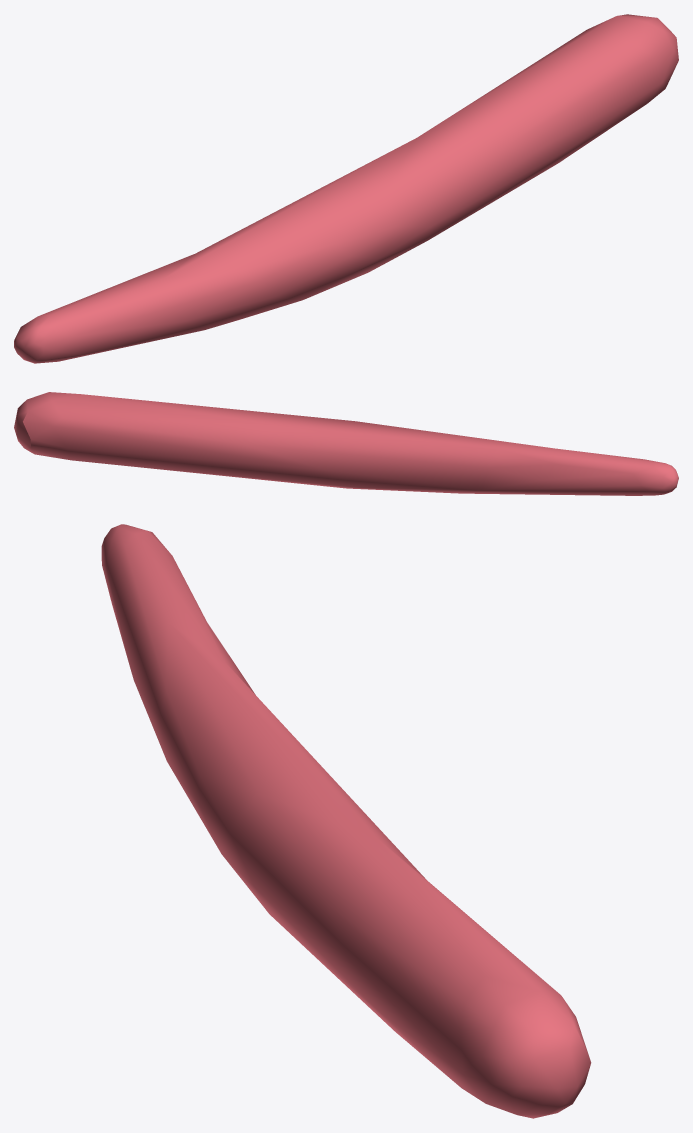
File: fma68945_fj3035.glb
3 views of the same model, one above another, from view 1: azimuth 30°, elevation 25°; view 2: azimuth 150°, elevation 25°; view 3: azimuth 270°, elevation 25° (orthographic). The views are drawn at different scales.
Parts seen in each view (by area): view 1: FMA68945_FJ3035; view 2: FMA68945_FJ3035; view 3: FMA68945_FJ3035.
Boxes of the visible parts, left/top/right/bottom form: FMA68945_FJ3035: left=14, top=14, right=678, bottom=363; FMA68945_FJ3035: left=14, top=392, right=678, bottom=495; FMA68945_FJ3035: left=101, top=524, right=591, bottom=1118.
Size of the model in its own units: 0.0392 by 0.00472 by 0.0148.
